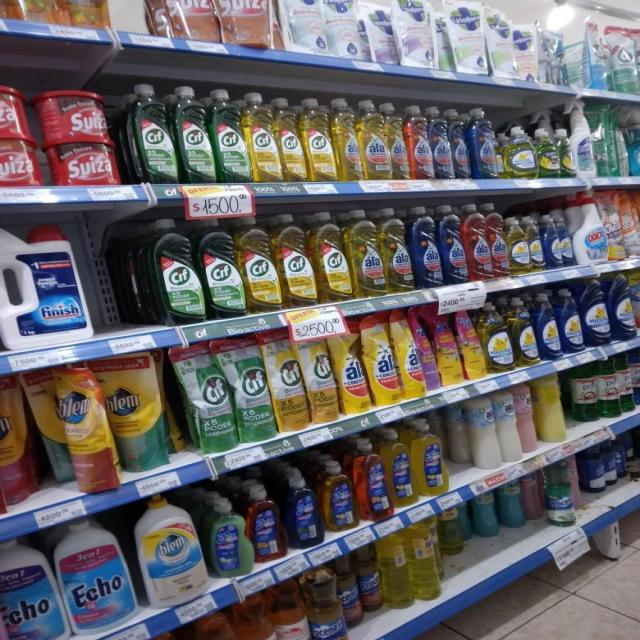ala_conc_amarillo: (350, 209, 383, 297), (383, 208, 412, 294), (360, 99, 388, 180), (388, 102, 407, 180)
ala_conc_azul: (412, 206, 440, 289), (471, 108, 500, 180), (441, 204, 465, 285), (431, 106, 452, 179), (452, 108, 471, 180)
ala_conc_rojo: (407, 105, 432, 180), (466, 203, 490, 281), (491, 206, 508, 278)
ala_crem_blanco: (470, 395, 498, 470), (498, 389, 519, 465)
ala_sachet_amarillo: (368, 314, 398, 407), (338, 320, 366, 415), (399, 309, 424, 400)
cif_conc_bot_amarilla: (242, 215, 278, 314), (279, 213, 314, 308), (315, 211, 349, 302), (247, 92, 277, 183), (304, 96, 333, 182), (333, 97, 360, 182), (278, 96, 303, 183)
cif_conc_botella_verde: (142, 217, 202, 325), (128, 83, 174, 184), (203, 216, 243, 320), (176, 85, 212, 184), (213, 88, 247, 184)
cif_conc_sachet_amarillo: (271, 329, 304, 433), (306, 326, 336, 425)
cif_conc_sachet_verde: (178, 342, 232, 453), (234, 335, 270, 443)
magistral_con_amarillo: (484, 300, 513, 374), (512, 296, 536, 367), (504, 126, 536, 179), (509, 215, 528, 275), (528, 215, 544, 272)
magistral_con_azul: (583, 280, 609, 346), (537, 292, 559, 360), (611, 276, 634, 341), (560, 288, 582, 354), (544, 214, 561, 270), (561, 215, 572, 267), (633, 271, 640, 338)
